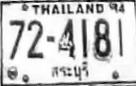1: (81, 18, 86, 58), (117, 18, 122, 56)
2: (26, 19, 43, 58)
4: (57, 18, 74, 57)
7: (8, 19, 24, 59)
8: (93, 17, 110, 58)
SRI: (50, 60, 90, 81)
